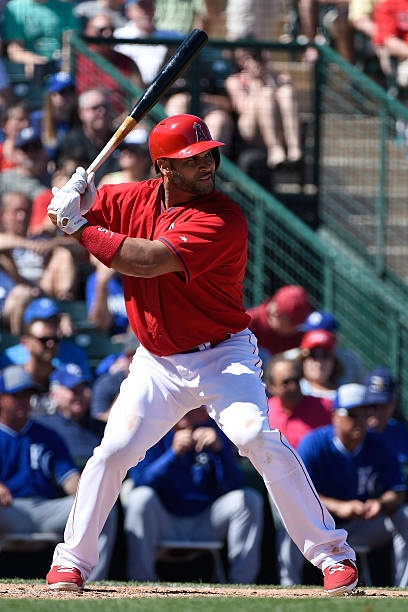bita: (76, 30, 208, 189)
